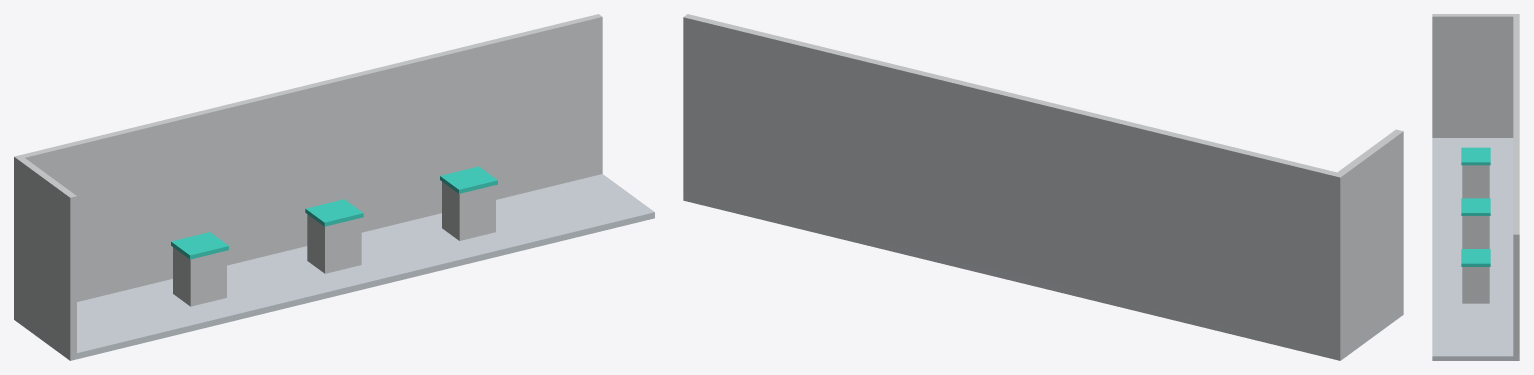
3 views of the same model, side by side, from view 1: azimuth 30°, elevation 25°; view 2: azimuth 150°, elevation 25°; view 3: azimuth 270°, elevation 25° (orthographic). The views are drawn at different scales.
Parts seen in each view (by area): view 1: Exhibition Booth Concept; view 2: Exhibition Booth Concept; view 3: Exhibition Booth Concept.
Boxes of the visible parts, x1,y1,x2,y2 form: Exhibition Booth Concept: (14, 14, 654, 360); Exhibition Booth Concept: (683, 14, 1403, 360); Exhibition Booth Concept: (1432, 14, 1519, 360).
Size of the model in its own units: 12 by 3.2 by 2.
